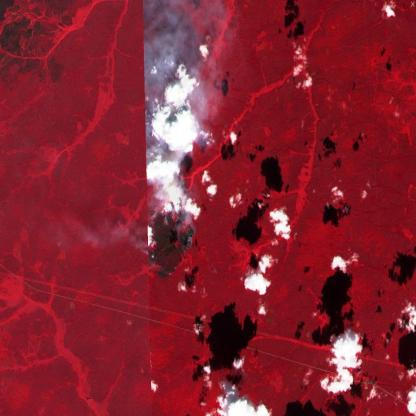fire: (146, 178, 196, 257)
